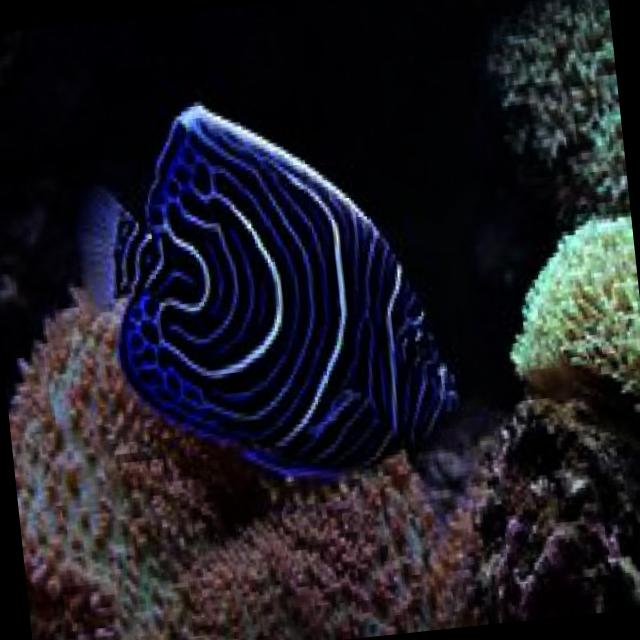AngelFish: (61, 74, 456, 496)
